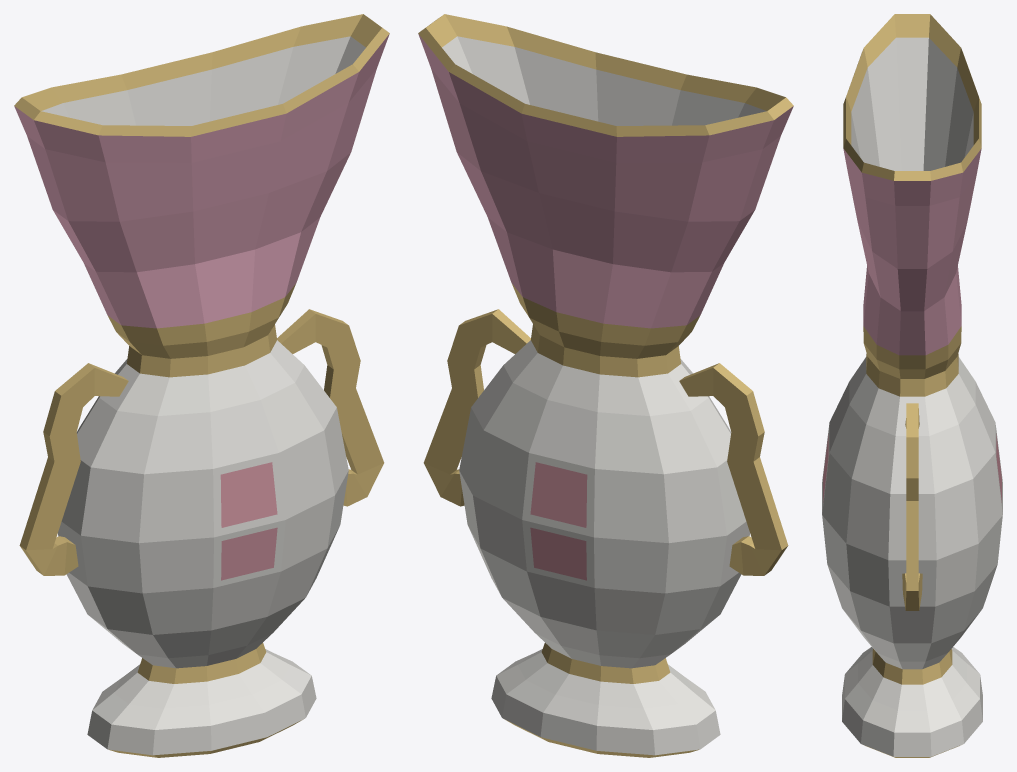
Rendered from florero.fbx.
The picture shows the model from 3 angles, left to right: view 1: azimuth 30°, elevation 25°; view 2: azimuth 150°, elevation 25°; view 3: azimuth 270°, elevation 25°; orthographic projection. The views are drawn at different scales.
Parts seen in each view (by area): view 1: florero; view 2: florero; view 3: florero.
Part boxes in pixels (<box>): florero: <box>14,14,389,757</box>; florero: <box>418,14,793,757</box>; florero: <box>822,14,1002,757</box>.
Bounding box in the file's own units: 31.77 × 56.03 × 14.73.
